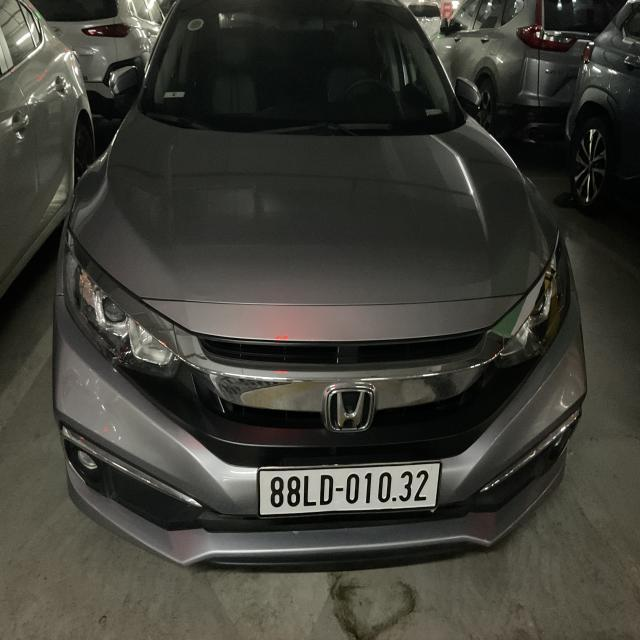license: (256, 460, 441, 517)
